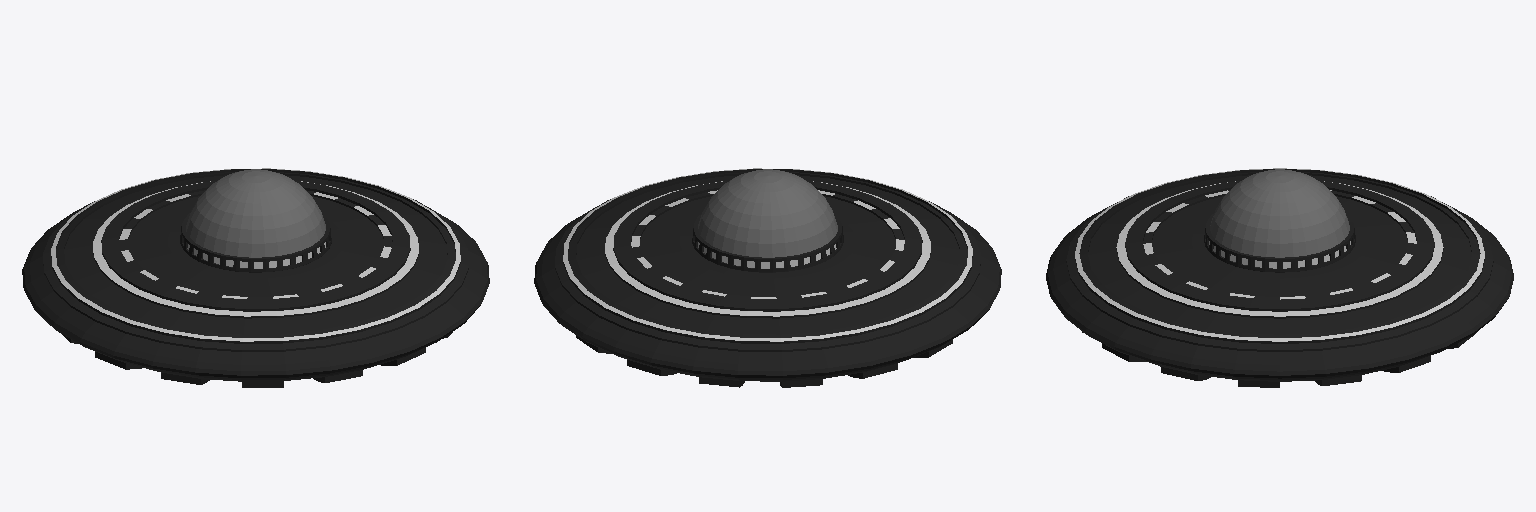
Rendered from spacecraft2.obj.
3 views of the same model, side by side, from view 1: azimuth 30°, elevation 25°; view 2: azimuth 150°, elevation 25°; view 3: azimuth 270°, elevation 25° (orthographic).
Visible parts, largest first — view 1: Sphere; view 2: Sphere; view 3: Sphere.
Boxes of the visible parts, box(x1,y1,x2,y2) form: Sphere: box(22, 168, 489, 387); Sphere: box(534, 168, 1001, 387); Sphere: box(1046, 168, 1513, 387).
Size of the model in its own units: 5.24 by 1.98 by 5.24.